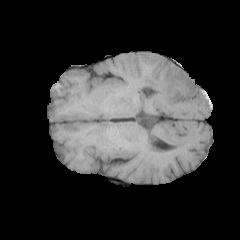glioma: (142, 72, 197, 109)
